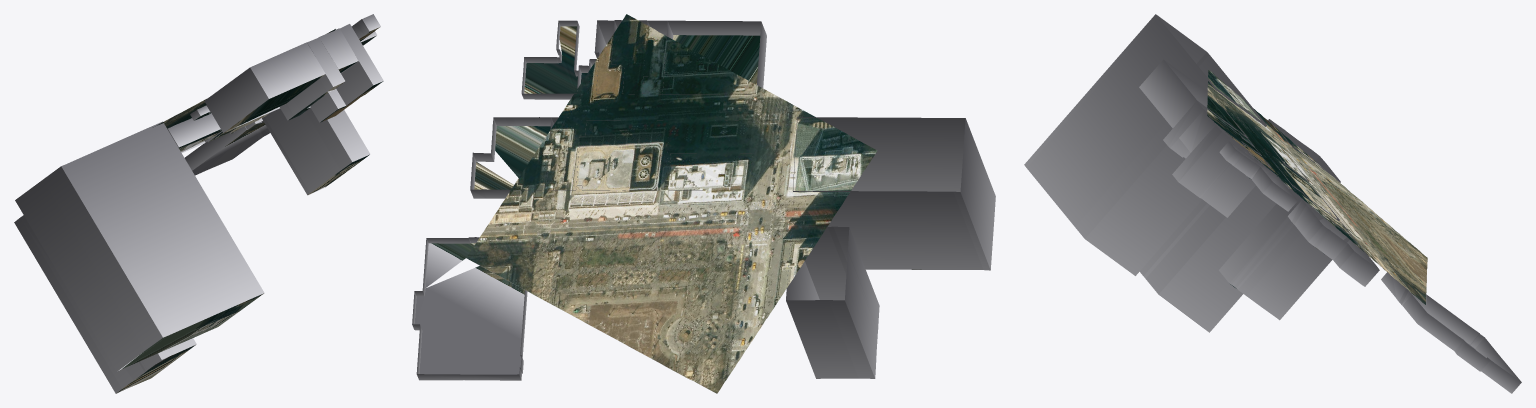
3 views of the same model, side by side, from view 1: azimuth 30°, elevation 25°; view 2: azimuth 150°, elevation 25°; view 3: azimuth 270°, elevation 25° (orthographic). The views are drawn at different scales.
Size of the model in its own units: 375 by 272 by 395.
Materials: 1 (1 with a texture image).
